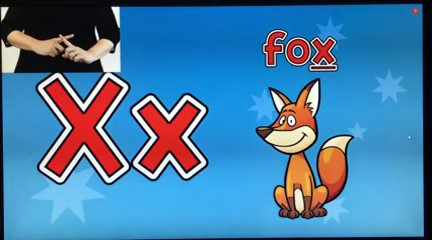X: (36, 29, 93, 67)
